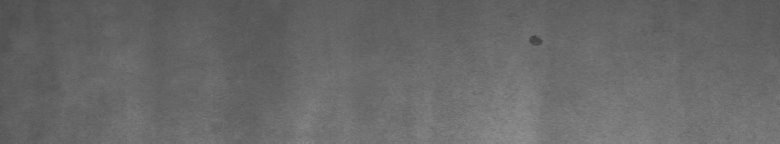fi: (525, 28, 547, 50)
